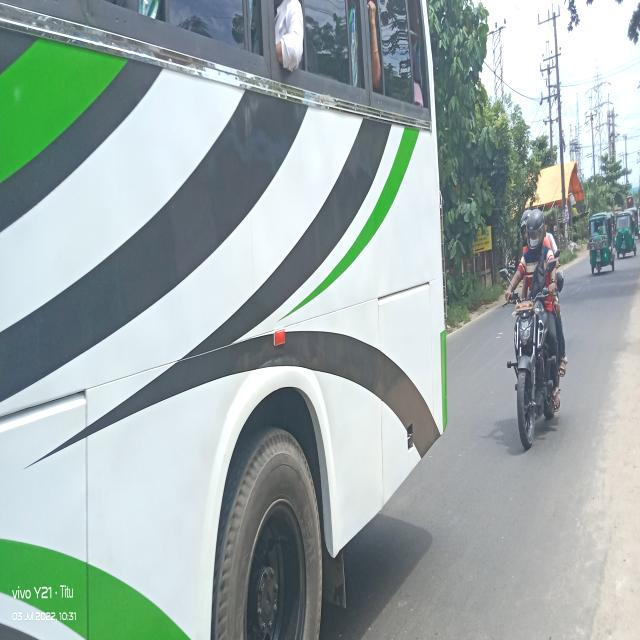bus: (1, 1, 447, 640)
